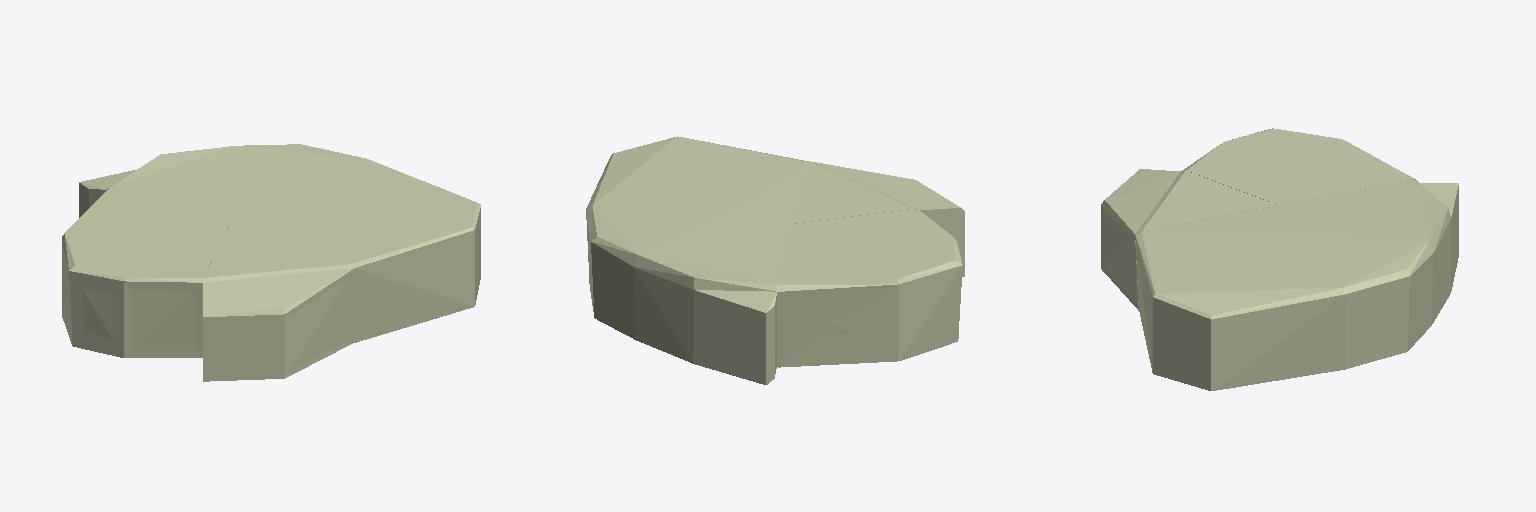
Rendered from Iceberg_Islands.obj.
3 renders of one model, left to right at view 1: azimuth 30°, elevation 25°; view 2: azimuth 150°, elevation 25°; view 3: azimuth 270°, elevation 25°, orthographic.
Parts seen in each view (by area): view 1: Iceberg_Island_Medium, Iceberg_Island_Medium_PartB, Iceberg_Island_Medium_PartC, Iceberg_Island_Medium_PartA; view 2: Iceberg_Island_Medium, Iceberg_Island_Medium_PartB, Iceberg_Island_Medium_PartC, Iceberg_Island_Medium_PartA; view 3: Iceberg_Island_Medium, Iceberg_Island_Medium_PartA, Iceberg_Island_Medium_PartB, Iceberg_Island_Medium_PartC.
Boxes of the visible parts, box(x1,y1,x2,y2) form: Iceberg_Island_Medium: box(79, 144, 480, 370); Iceberg_Island_Medium_PartB: box(62, 186, 229, 357); Iceberg_Island_Medium_PartC: box(203, 225, 354, 381); Iceberg_Island_Medium_PartA: box(79, 186, 480, 343); Iceberg_Island_Medium: box(586, 136, 911, 384); Iceberg_Island_Medium_PartB: box(778, 209, 962, 367); Iceberg_Island_Medium_PartC: box(795, 162, 964, 276); Iceberg_Island_Medium_PartA: box(586, 153, 776, 383); Iceberg_Island_Medium: box(1104, 171, 1458, 390); Iceberg_Island_Medium_PartA: box(1135, 193, 1458, 390); Iceberg_Island_Medium_PartB: box(1182, 128, 1418, 204); Iceberg_Island_Medium_PartC: box(1101, 169, 1277, 310).
Size of the model in its own units: 18.28 by 3.9 by 14.85.